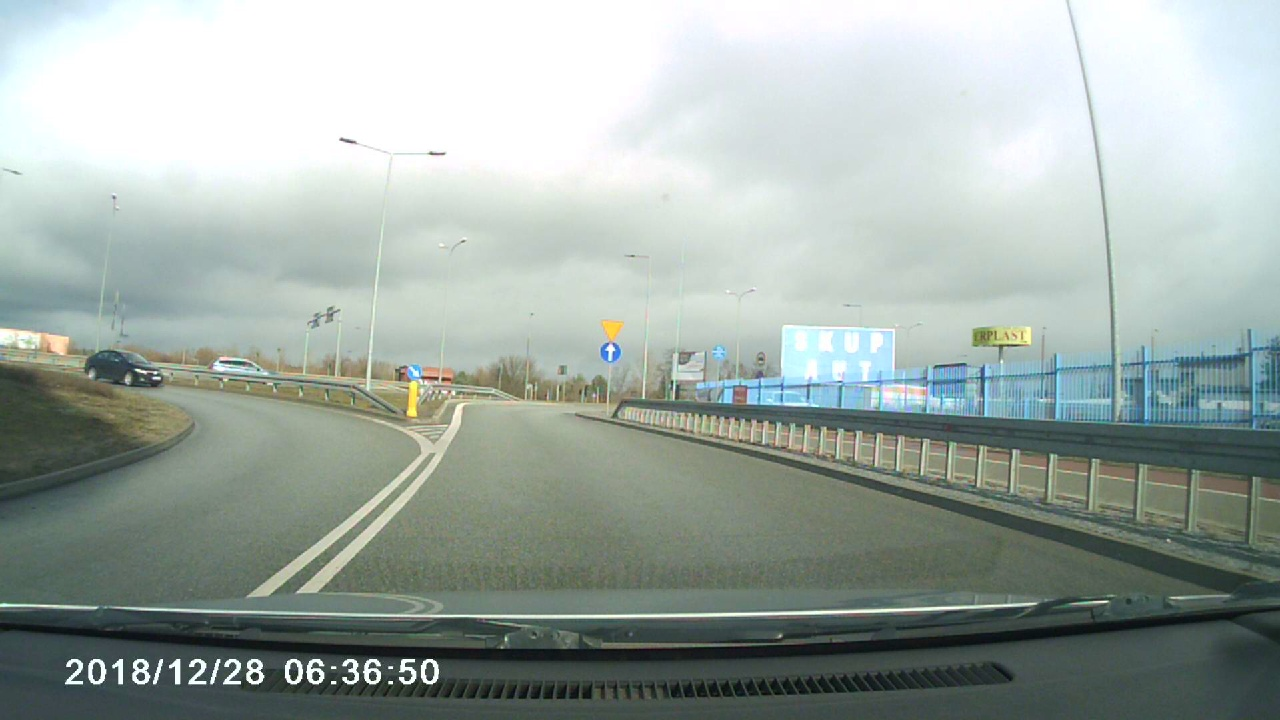A7: (597, 318, 627, 341)
C5: (597, 340, 628, 365)
